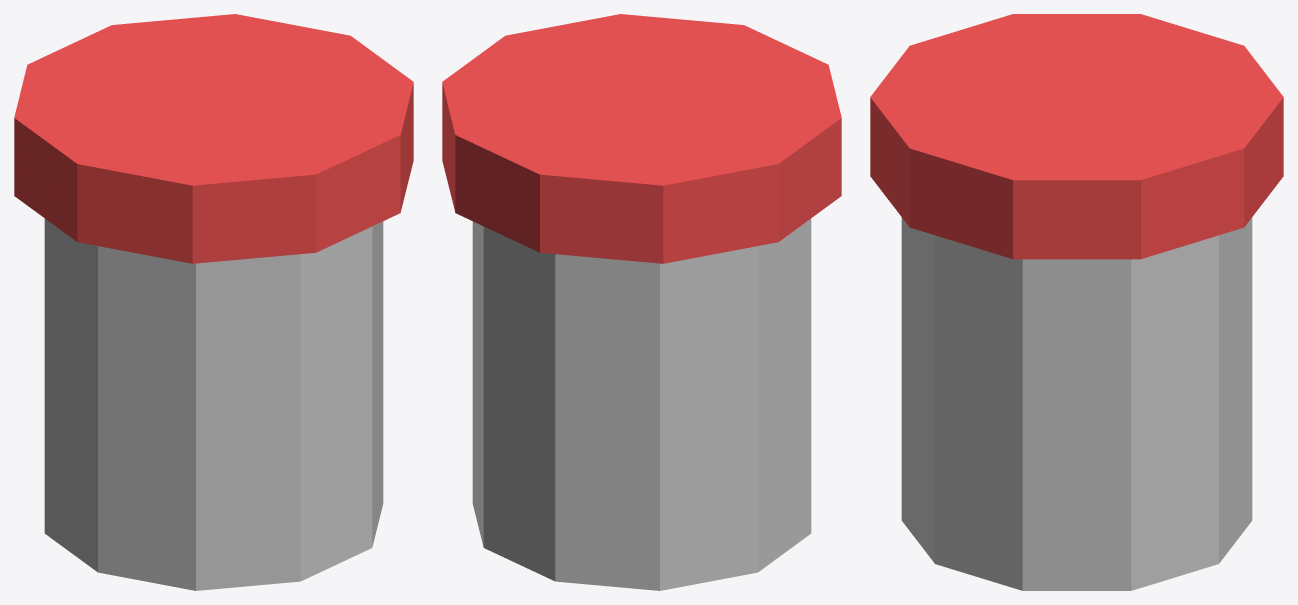
The model's file is Science_Cub.fbx.
The picture shows the model from 3 angles, left to right: view 1: azimuth 30°, elevation 25°; view 2: azimuth 150°, elevation 25°; view 3: azimuth 270°, elevation 25°; orthographic projection.
Visible parts, largest first — view 1: Science_Cub; view 2: Science_Cub; view 3: Science_Cub.
Part boxes in pixels (<box>): Science_Cub: <box>14,14,413,590</box>; Science_Cub: <box>442,14,841,590</box>; Science_Cub: <box>870,14,1283,590</box>.
Size of the model in its own units: 0.2995 by 0.3558 by 0.3149.
